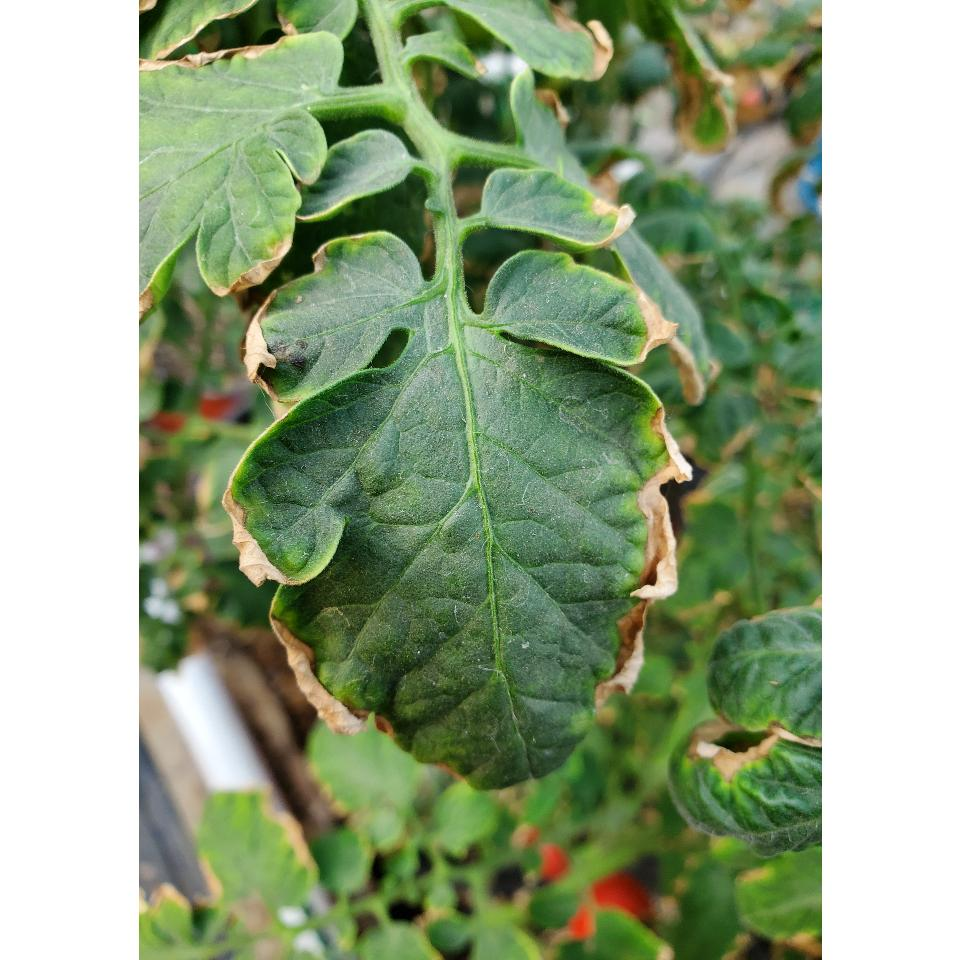tomato_bacterial_blight: (473, 270, 699, 738), (223, 287, 398, 735)
